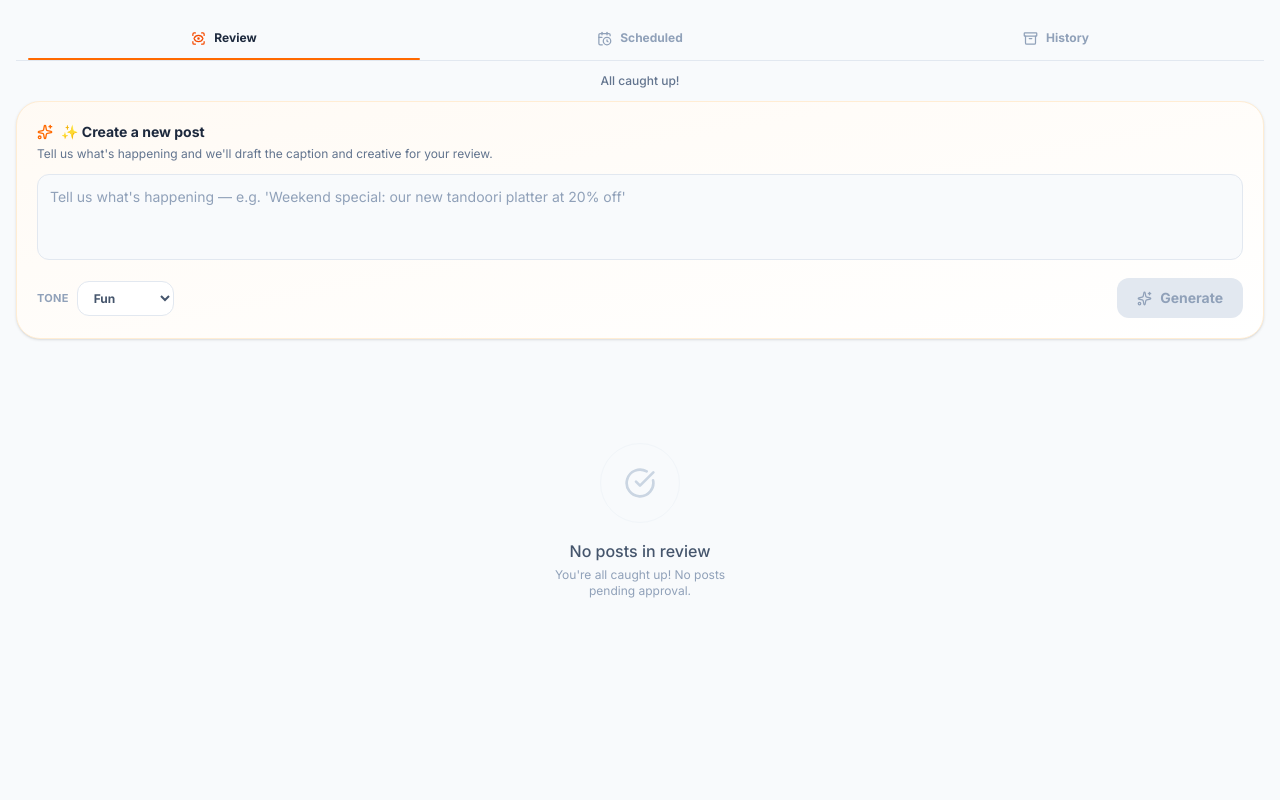
it: ContentStudio Component › Empty State Rendering › should show empty state for scheduled tab
Expected: the text "Scheduled" is shown, x1=620 y1=30 x2=683 y2=46
Click the button "Scheduled" at x=640, y=38, box x1=432 y1=16 x2=848 y2=60
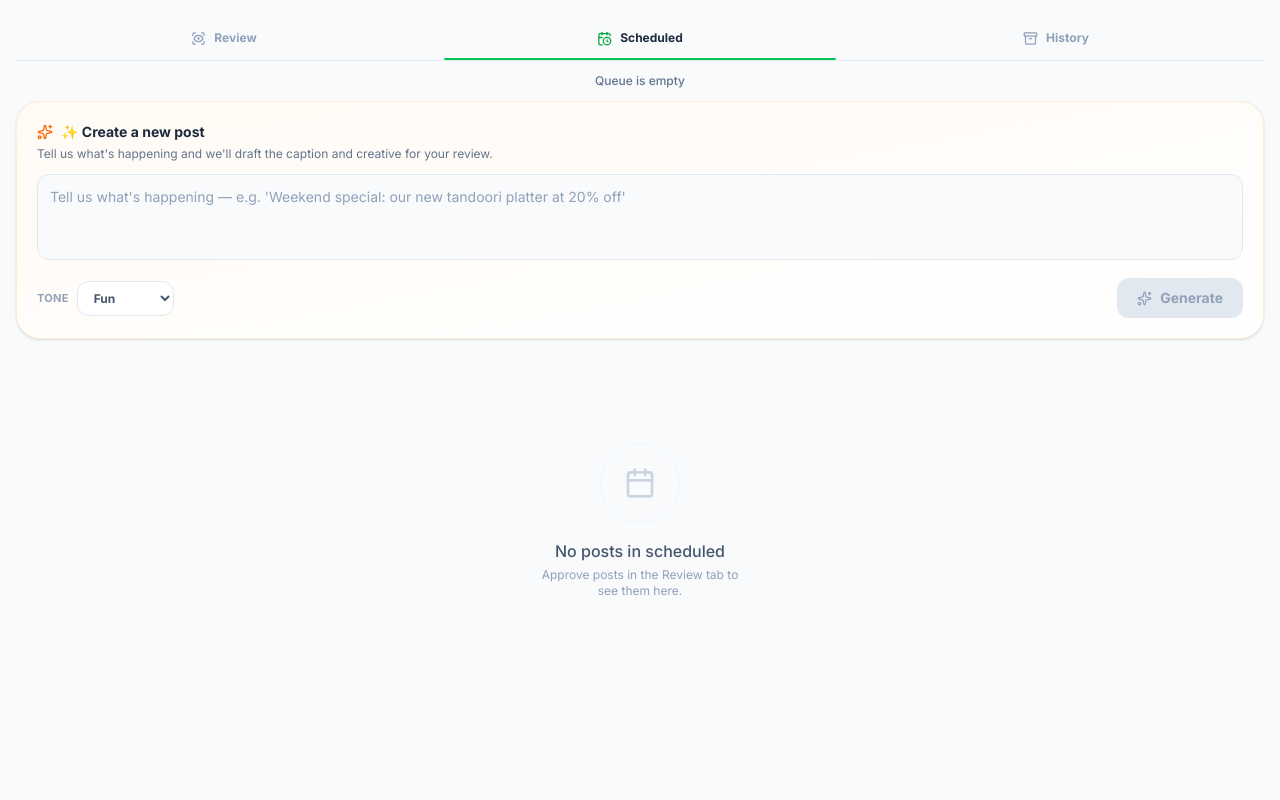
Expected: the text "Queue is empty" is shown, x1=595 y1=73 x2=685 y2=89
